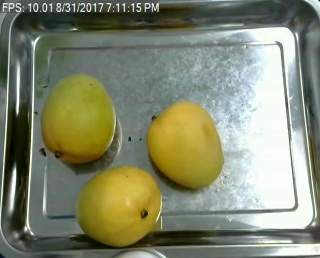Mango: (143, 100, 232, 197), (35, 75, 123, 161), (75, 164, 161, 245)
